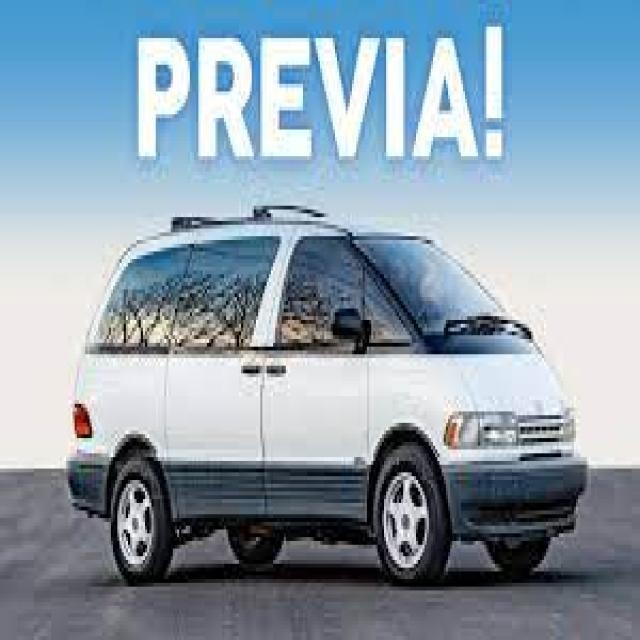Van: (64, 209, 589, 586)
